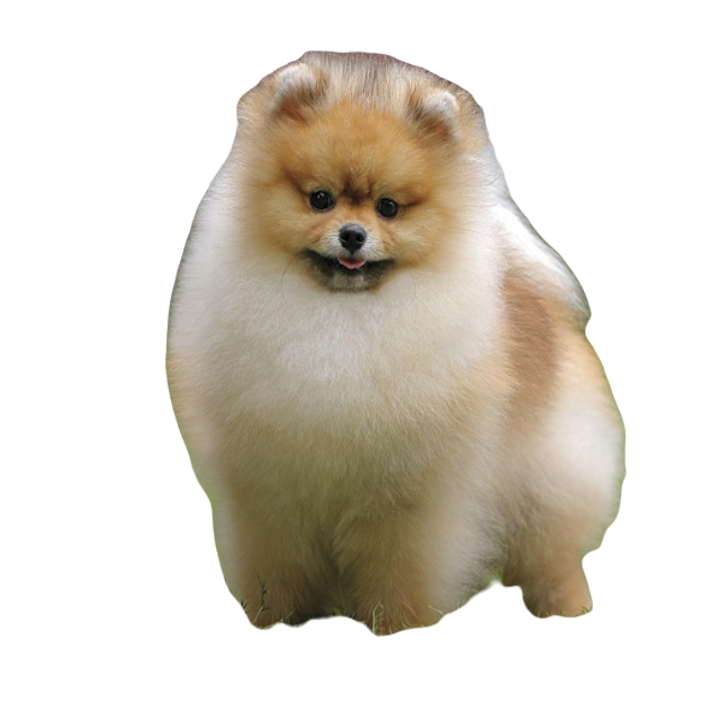Dog: (140, 48, 633, 638)
